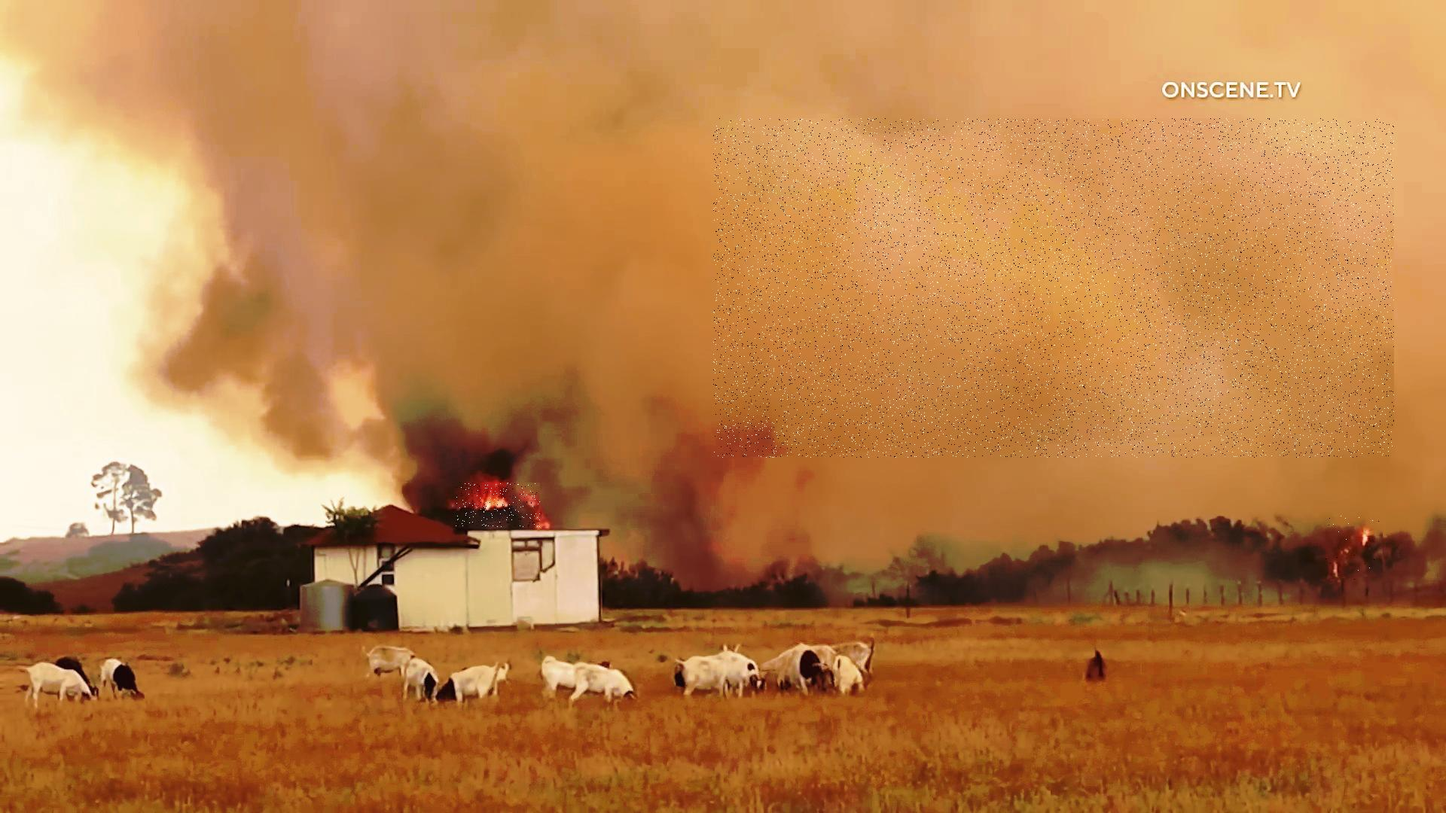fire: (1317, 508, 1383, 580), (456, 483, 540, 527)
smoke: (713, 118, 1394, 458)
